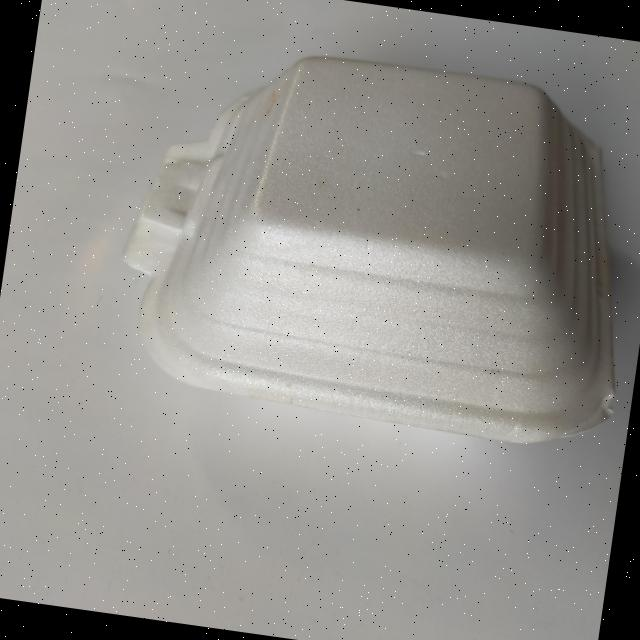styrofoam: (103, 26, 640, 457)
